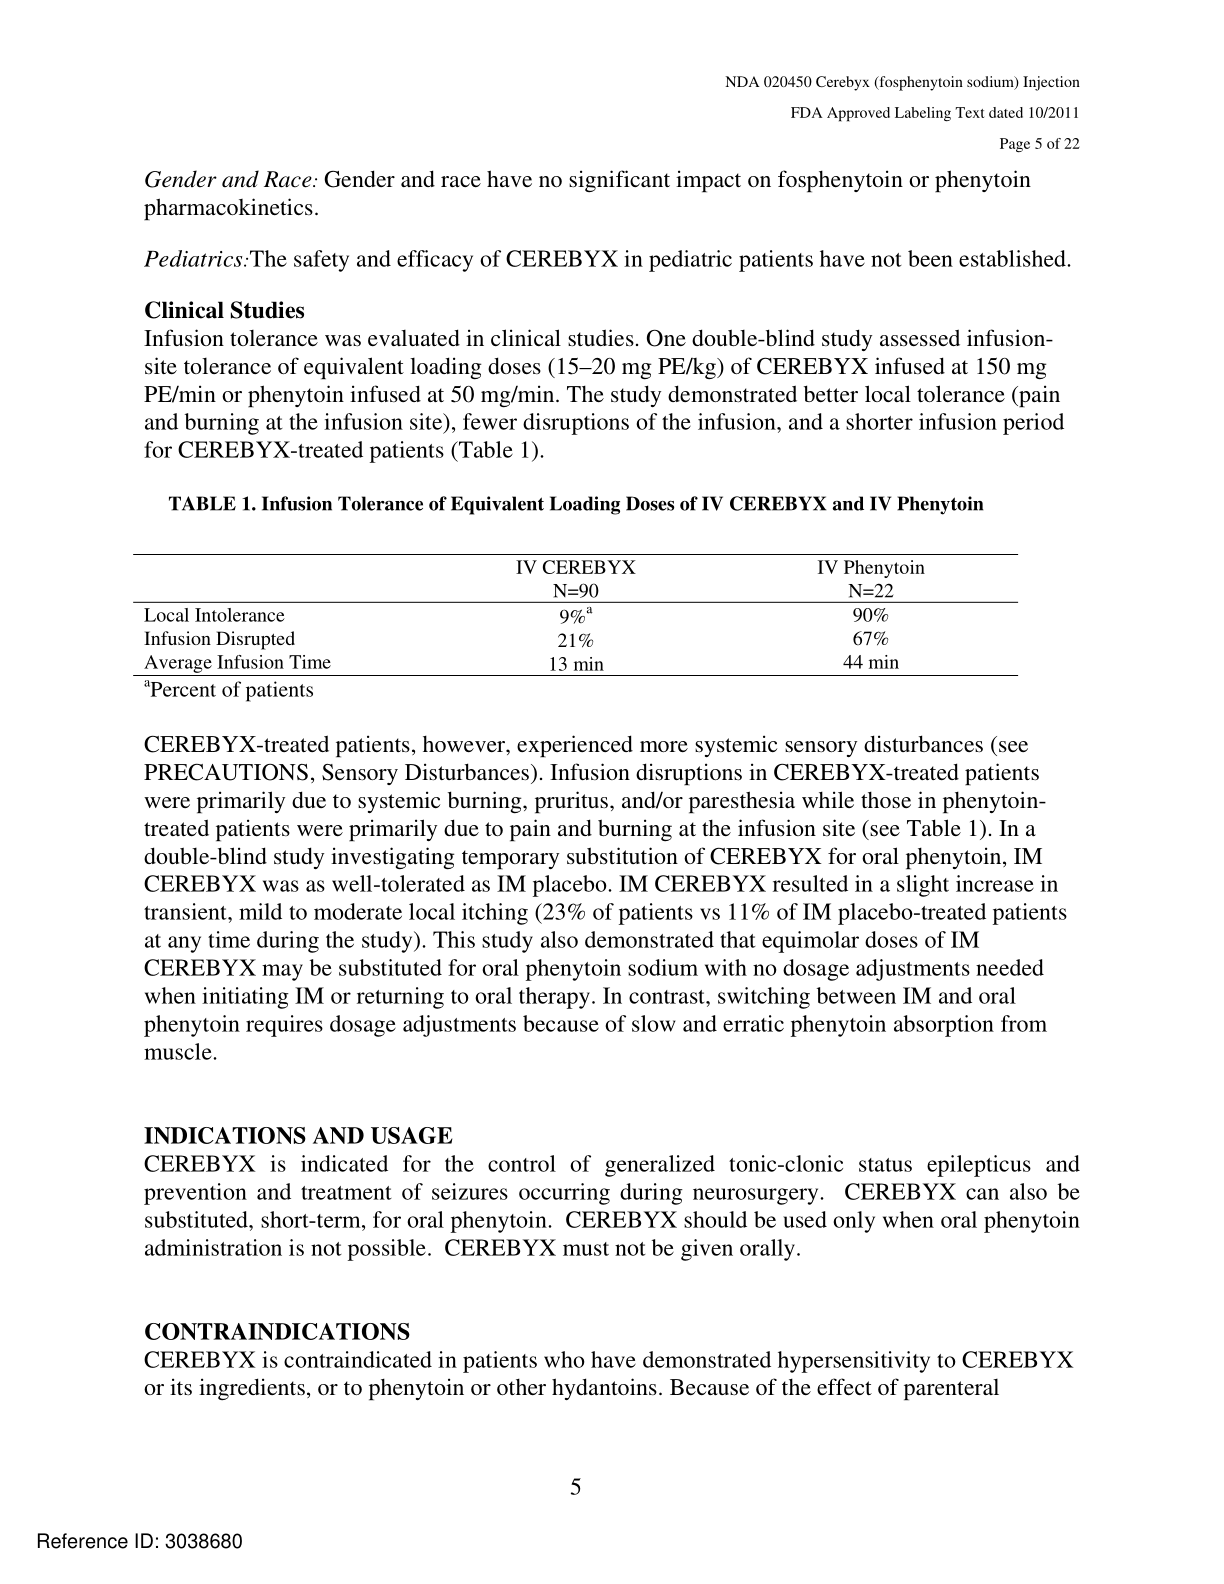partial_lined: (130, 552, 1022, 678)
